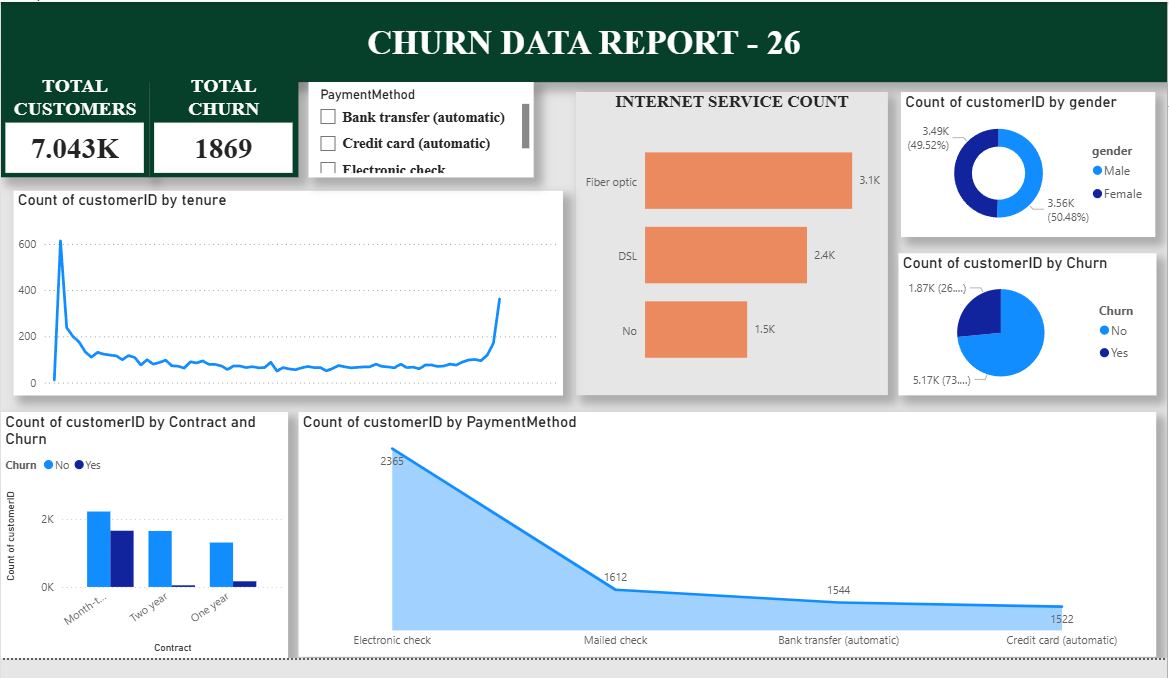

What the dashboard file says about the page in this screenshot:
{"tool":"powerbi","page":{"name":"Page 1","canvas":[1280,720],"ordinal":0},"visuals":[{"type":"textbox","title":"CHURN DATA REPORT","box":[0,0,1280,88],"z":0},{"type":"cardVisual","title":"TOTAL CUSTOMERS","fields":{"Data":["Count(WA_Fn-UseC_-Telco-Customer-Churn pro.customerID)"]},"box":[0,79.7,163,113],"z":1000},{"type":"cardVisual","title":"TOTAL CHURN","fields":{"Data":["CountNonNull(WA_Fn-UseC_-Telco-Customer-Churn pro.Churn)"]},"box":[163,79.7,163,113],"z":2000},{"type":"lineClusteredColumnComboChart","fields":{"Category":["WA_Fn-UseC_-Telco-Customer-Churn pro.Contract"],"Y":["CountNonNull(WA_Fn-UseC_-Telco-Customer-Churn pro.customerID)"],"Series":["WA_Fn-UseC_-Telco-Customer-Churn pro.Churn"]},"box":[0,449.7,315.2,270],"z":3000},{"type":"barChart","title":"INTERNET SERVICE COUNT","fields":{"Y":["CountNonNull(WA_Fn-UseC_-Telco-Customer-Churn pro.customerID)"],"Category":["WA_Fn-UseC_-Telco-Customer-Churn pro.InternetService"]},"box":[631.7,98.7,342.6,333.1],"z":4000},{"type":"pieChart","fields":{"Category":["WA_Fn-UseC_-Telco-Customer-Churn pro.Churn"],"Y":["CountNonNull(WA_Fn-UseC_-Telco-Customer-Churn pro.customerID)"]},"box":[985,276,283.1,155.8],"z":5000},{"type":"donutChart","fields":{"Category":["WA_Fn-UseC_-Telco-Customer-Churn pro.gender"],"Y":["CountNonNull(WA_Fn-UseC_-Telco-Customer-Churn pro.customerID)"]},"box":[988.6,98.7,279.6,159.4],"z":6000},{"type":"areaChart","fields":{"Category":["WA_Fn-UseC_-Telco-Customer-Churn pro.PaymentMethod"],"Y":["CountNonNull(WA_Fn-UseC_-Telco-Customer-Churn pro.customerID)"]},"box":[359.3,449.7,908.8,270],"z":7000},{"type":"lineChart","fields":{"Category":["WA_Fn-UseC_-Telco-Customer-Churn pro.tenure"],"Y":["CountNonNull(WA_Fn-UseC_-Telco-Customer-Churn pro.customerID)"]},"box":[13.1,207,603.1,224.8],"z":8000},{"type":"slicer","fields":{"Values":["WA_Fn-UseC_-Telco-Customer-Churn pro.PaymentMethod"]},"box":[337.8,88,247.4,104.7],"z":9000}]}

Visuals, with their boxes in screenshot pixels (x1, y1, x2, y2):
"CHURN DATA REPORT" textbox: <bbox>9, 0, 1162, 79</bbox>
"TOTAL CUSTOMERS" cardVisual: <bbox>9, 72, 156, 174</bbox>
"TOTAL CHURN" cardVisual: <bbox>156, 72, 303, 174</bbox>
lineClusteredColumnComboChart - WA_Fn-UseC_-Telco-Customer-Churn pro.Contract x CountNonNull(WA_Fn-UseC_-Telco-Customer-Churn pro.customerID): <bbox>9, 405, 293, 648</bbox>
"INTERNET SERVICE COUNT" barChart: <bbox>578, 89, 887, 389</bbox>
pieChart - WA_Fn-UseC_-Telco-Customer-Churn pro.Churn x CountNonNull(WA_Fn-UseC_-Telco-Customer-Churn pro.customerID): <bbox>896, 249, 1151, 389</bbox>
donutChart - WA_Fn-UseC_-Telco-Customer-Churn pro.gender x CountNonNull(WA_Fn-UseC_-Telco-Customer-Churn pro.customerID): <bbox>900, 89, 1151, 232</bbox>
areaChart - WA_Fn-UseC_-Telco-Customer-Churn pro.PaymentMethod x CountNonNull(WA_Fn-UseC_-Telco-Customer-Churn pro.customerID): <bbox>333, 405, 1151, 648</bbox>
lineChart - WA_Fn-UseC_-Telco-Customer-Churn pro.tenure x CountNonNull(WA_Fn-UseC_-Telco-Customer-Churn pro.customerID): <bbox>21, 186, 564, 389</bbox>
slicer - WA_Fn-UseC_-Telco-Customer-Churn pro.PaymentMethod: <bbox>313, 79, 536, 174</bbox>
